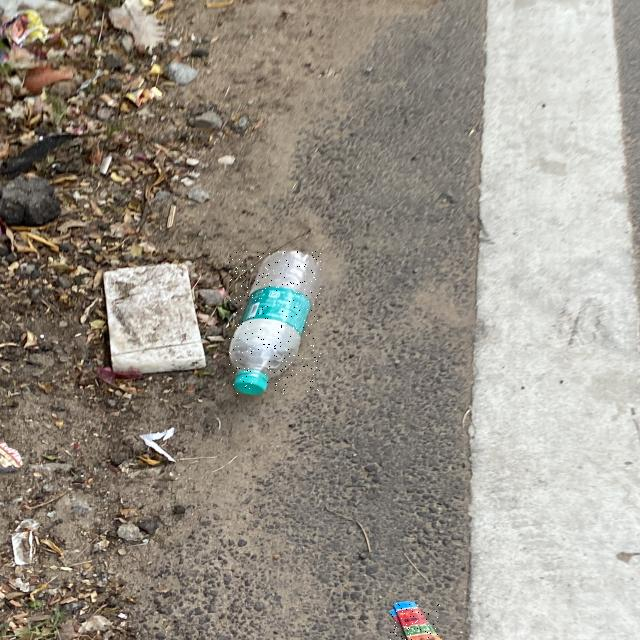plastic: (229, 251, 321, 394)
wrapper: (390, 602, 441, 640)
